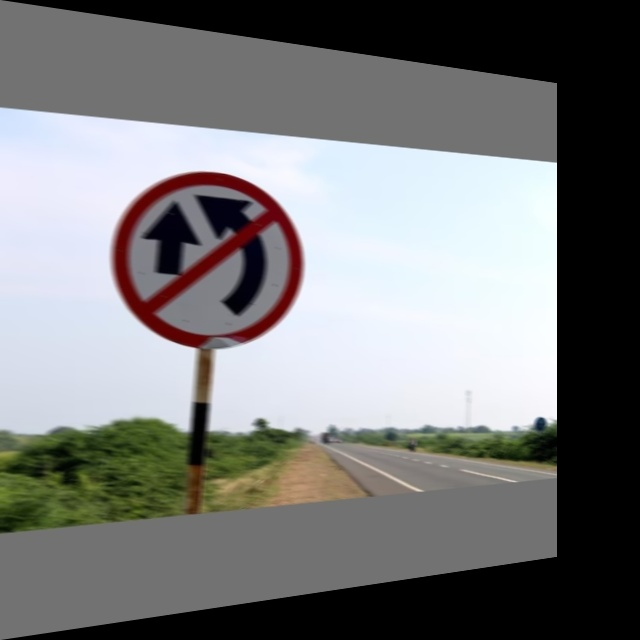Overtaking_Prohibited: (114, 163, 301, 352)
